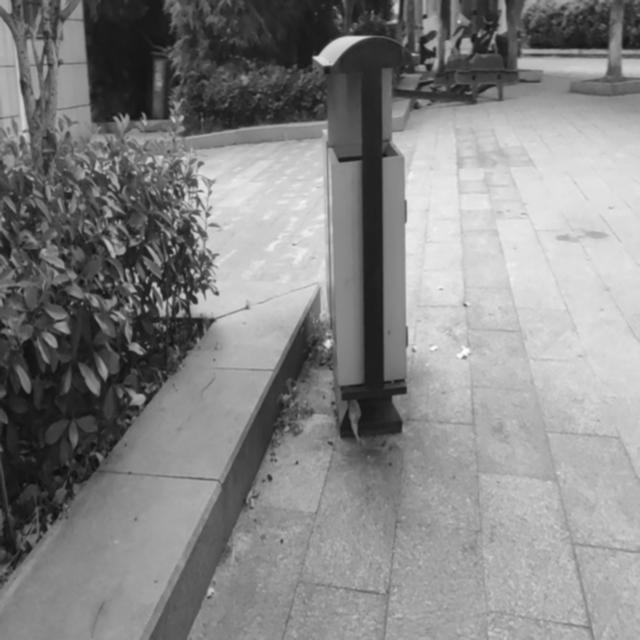ash bin: (310, 34, 413, 440), (149, 43, 174, 119)
